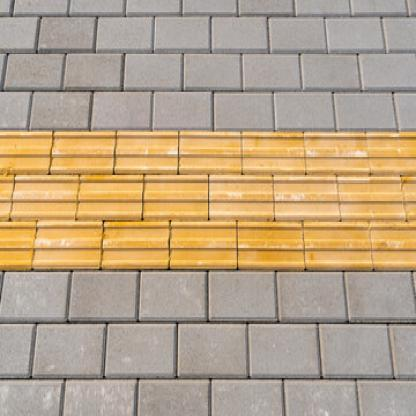podotacti: (0, 118, 416, 282)
